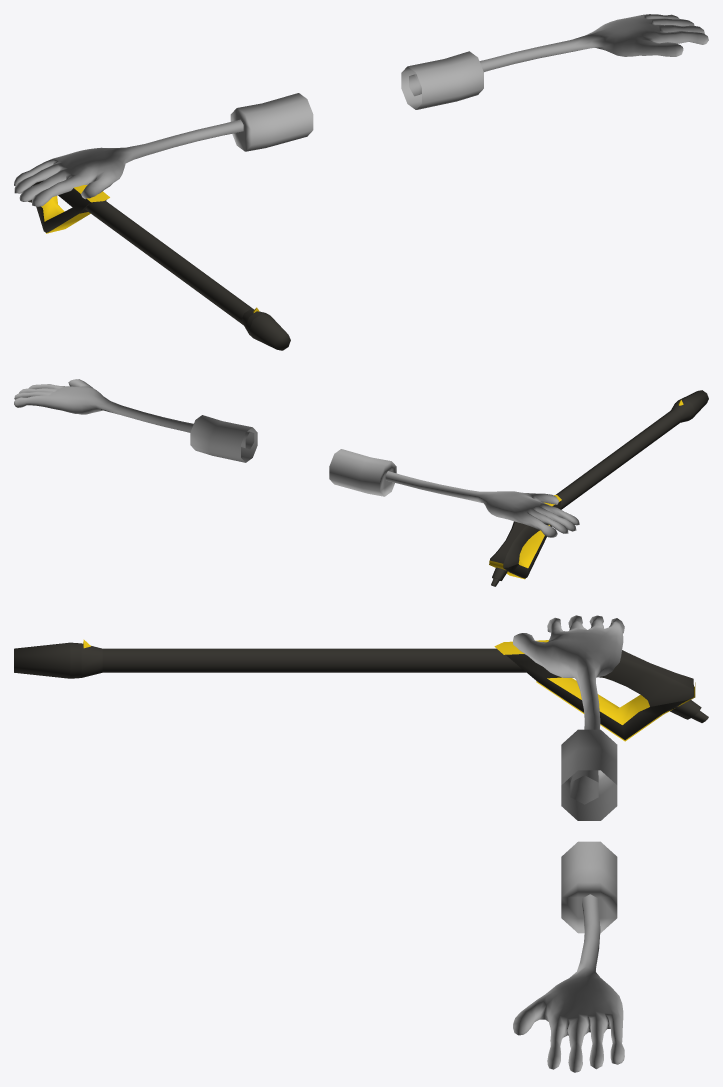
The model's file is KarcherAnimDisparar.fbx.
The picture shows the model from 3 angles, top to bottom: view 1: azimuth 30°, elevation 25°; view 2: azimuth 150°, elevation 25°; view 3: azimuth 270°, elevation 25°; orthographic projection. The views are drawn at different scales.
Visible parts, largest first — view 1: character_fps:arms, AKPistol, character_fps:polySurface2, character_fps:polySurface3; view 2: character_fps:arms, AKPistol, character_fps:polySurface2, character_fps:polySurface3; view 3: AKPistol, character_fps:arms, character_fps:polySurface3, character_fps:polySurface2.
Boxes of the visible parts, x1,y1,x2,y2 form: character_fps:arms: [14, 14, 708, 206]; AKPistol: [28, 180, 290, 350]; character_fps:polySurface2: [230, 93, 313, 151]; character_fps:polySurface3: [401, 51, 483, 109]; character_fps:arms: [14, 379, 579, 537]; AKPistol: [489, 390, 708, 586]; character_fps:polySurface2: [329, 449, 396, 496]; character_fps:polySurface3: [190, 415, 257, 462]; AKPistol: [14, 639, 708, 741]; character_fps:arms: [513, 615, 624, 1072]; character_fps:polySurface3: [561, 841, 617, 933]; character_fps:polySurface2: [561, 729, 617, 820].
Size of the model in its own units: 28.99 by 3.57 by 18.93.
3 materials, 1 textured.
